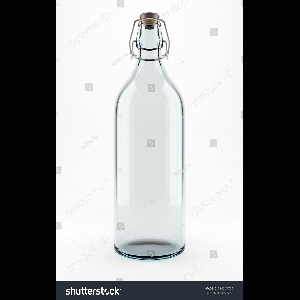emptybottle: (113, 12, 185, 260)
